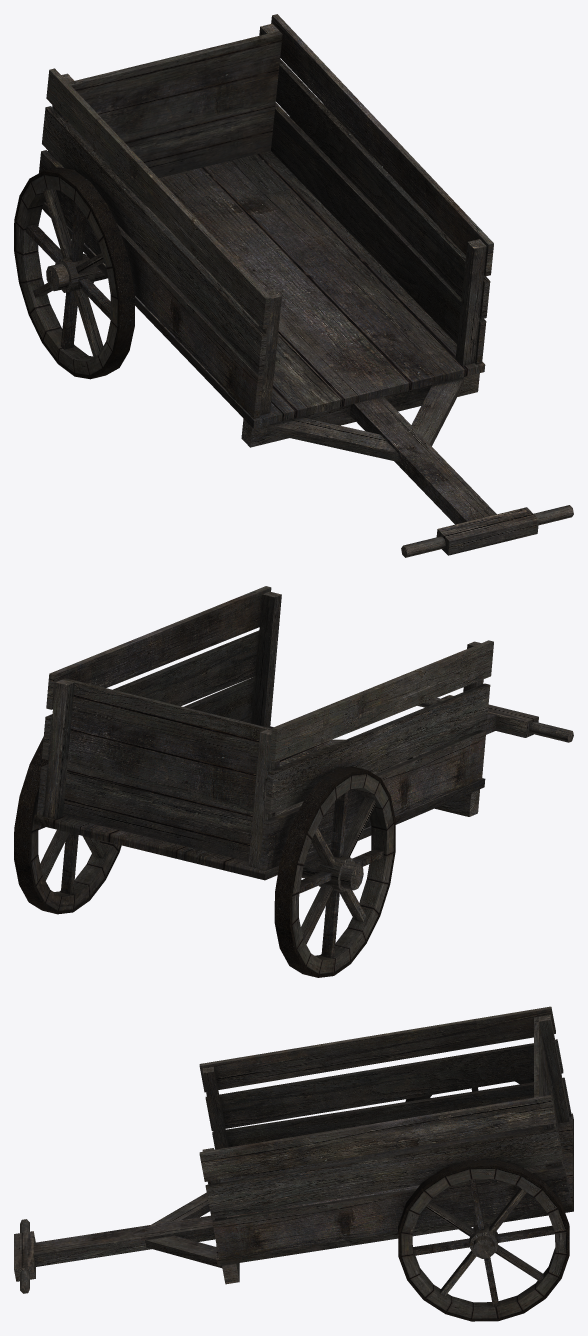
The model's file is Wagon2.fbx.
The picture shows the model from 3 angles, top to bottom: view 1: azimuth 30°, elevation 25°; view 2: azimuth 150°, elevation 25°; view 3: azimuth 270°, elevation 25°; orthographic projection. The views are drawn at different scales.
Parts seen in each view (by area): view 1: polySurface152; view 2: polySurface152; view 3: polySurface152.
Boxes of the visible parts, box(x1,y1,x2,y2) form: polySurface152: box(14, 14, 573, 557); polySurface152: box(14, 586, 573, 977); polySurface152: box(14, 1006, 573, 1321).
Size of the model in its own units: 7.36 by 6.12 by 14.44.
